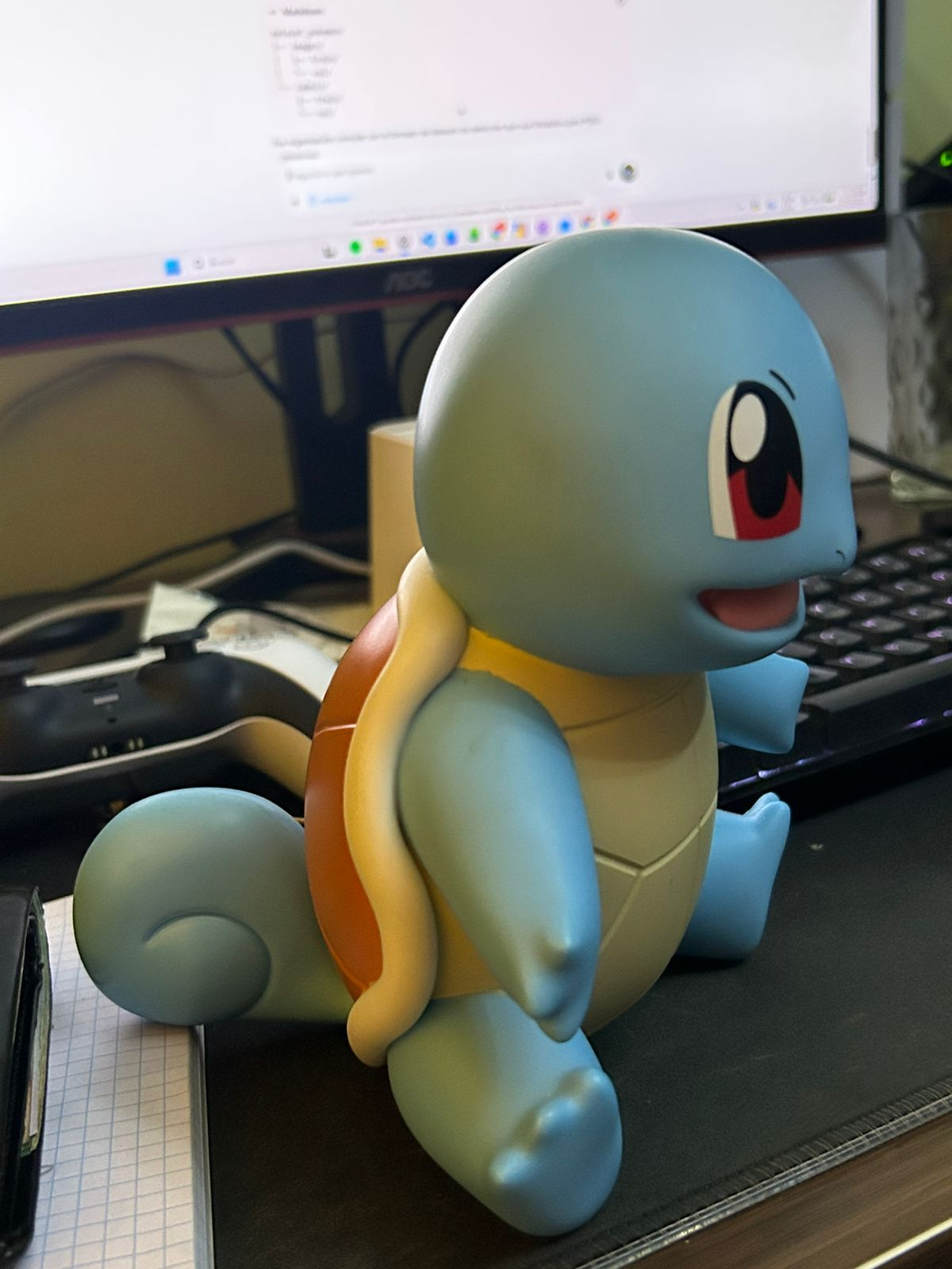Squirtle: (76, 229, 854, 1233)
